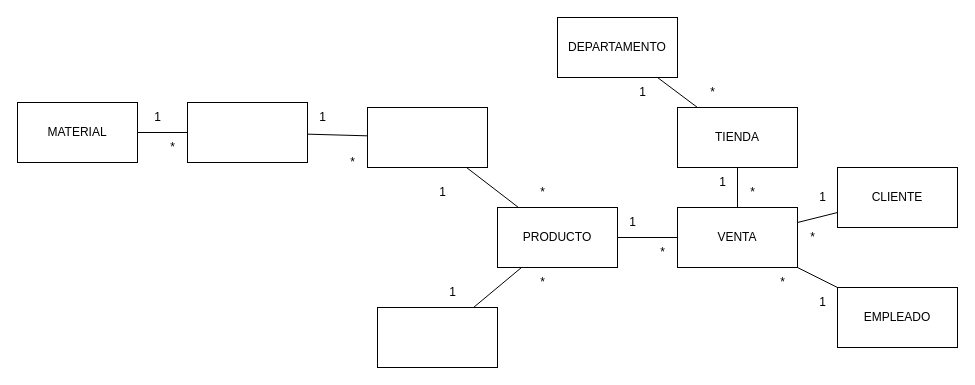
The diagram is 975 pixels wide and 385 high, and some of its shapes have lost their labels. The shapes that lost their labels are listed below. From the top down, each one's centre as x and y in pixels, then its label:
the point at 247,132: DISEÑO
the point at 427,137: FABRICADOS
the point at 437,337: IMPORTADO
